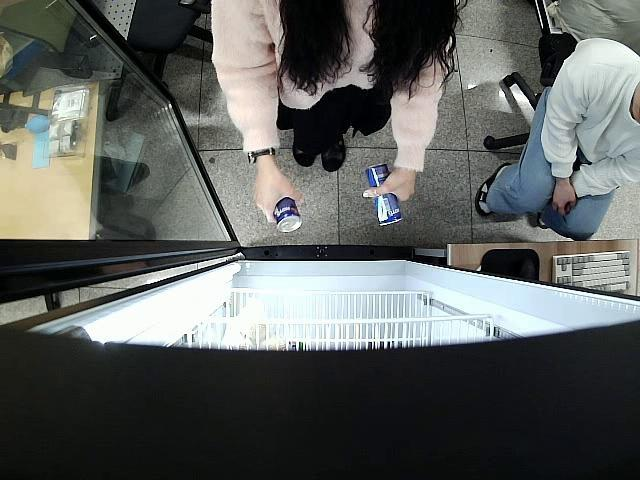16_hot6: (364, 162, 404, 228), (272, 197, 301, 233)
